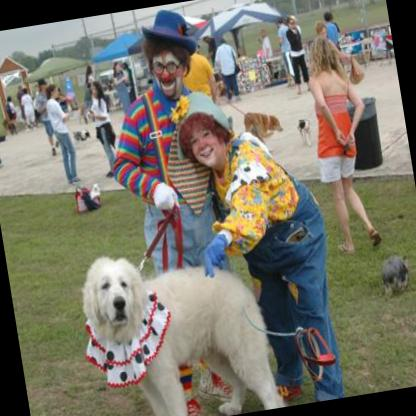Great_Pyrenees: (74, 229, 288, 416)
